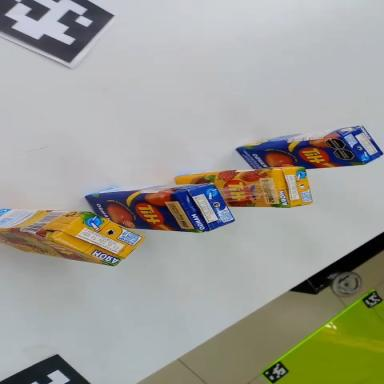HIT-MANGO: (85, 182, 234, 240), (236, 124, 383, 175)
HIT-MORA: (0, 209, 145, 267), (175, 166, 312, 211)
cara_F: (0, 224, 116, 281), (84, 188, 201, 233), (235, 135, 363, 175), (175, 170, 281, 208)
